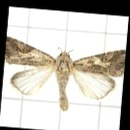Spodoptera litura: (3, 40, 122, 111)
